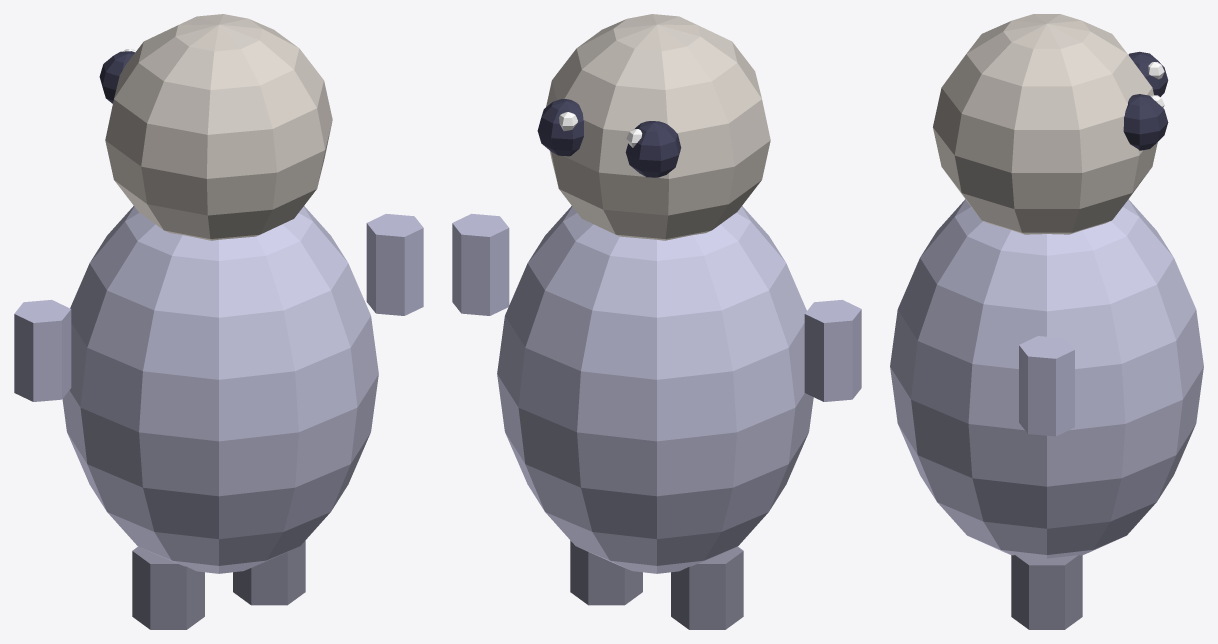
The model's file is agent.glb.
3 views of the same model, side by side, from view 1: azimuth 30°, elevation 25°; view 2: azimuth 150°, elevation 25°; view 3: azimuth 270°, elevation 25° (orthographic).
Visible parts, largest first — view 1: agent; view 2: agent; view 3: agent.
Part boxes in pixels (x1,y1,x2,y2): agent: (14, 14, 423, 629); agent: (452, 14, 861, 629); agent: (890, 14, 1203, 629).
Size of the model in its own units: 0.763 by 1.06 by 0.528.
